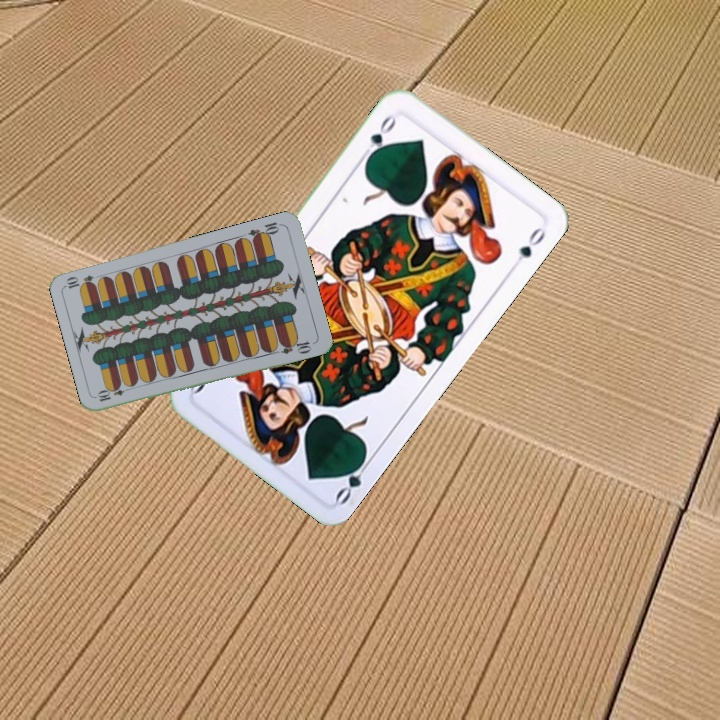E10: (245, 218, 285, 244), (94, 382, 134, 404)
GO: (331, 451, 375, 507), (358, 111, 401, 162)
